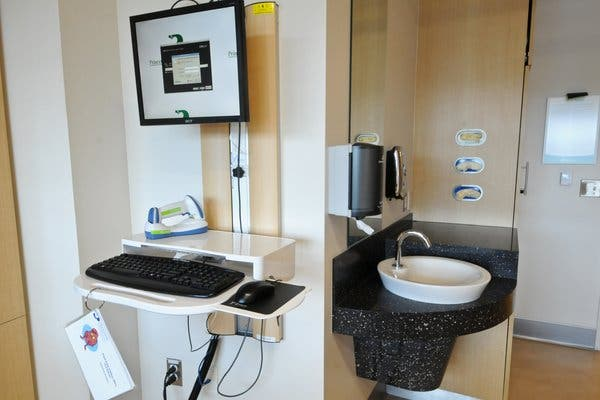computer: (126, 1, 253, 130)
counter: (335, 217, 524, 387)
countertop: (329, 212, 520, 304)
dispenser: (327, 143, 383, 235)
faucet: (385, 226, 434, 270)
handle: (513, 156, 532, 200)
keyboard: (86, 249, 247, 300)
mouse: (227, 279, 277, 307)
sink: (375, 251, 493, 306)
telephone: (382, 143, 410, 204)
